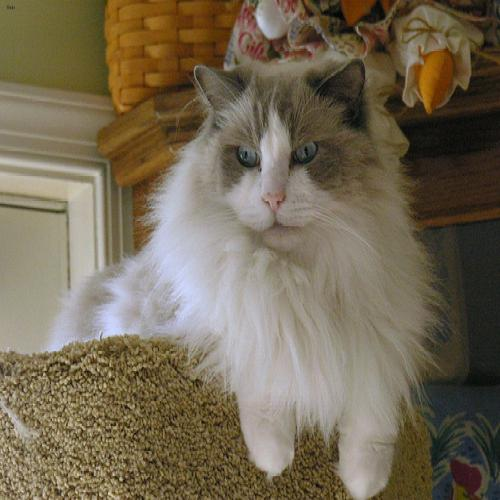ragdoll: (184, 52, 384, 257)
